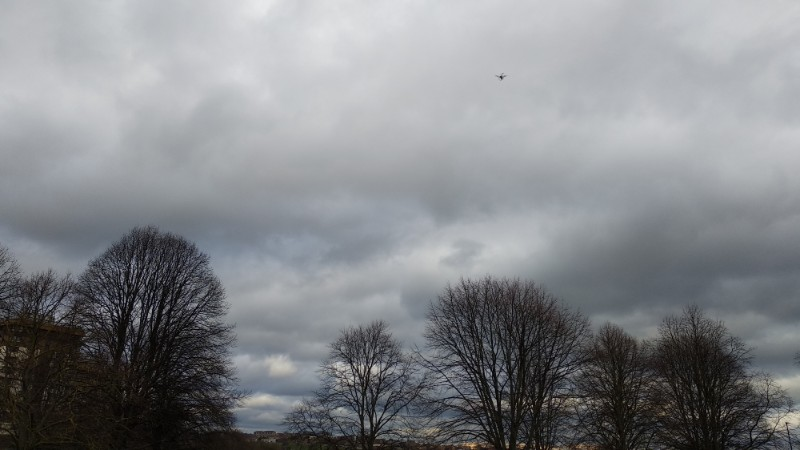drone: (494, 72, 506, 81)
